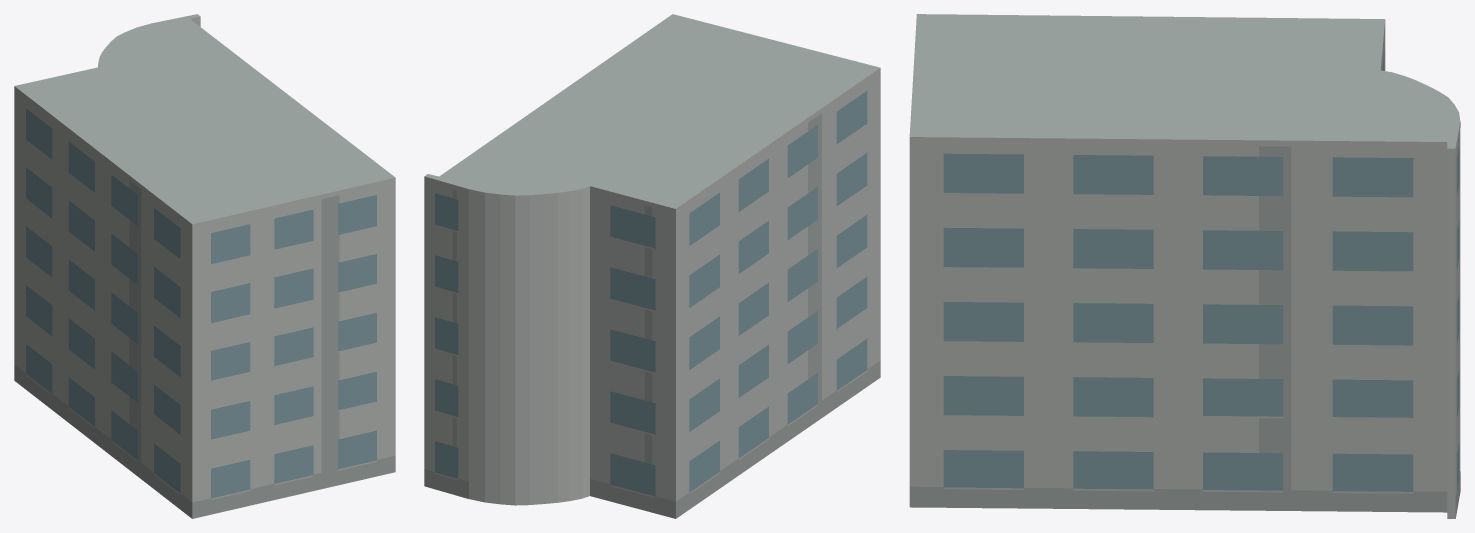
Rendered from survey-upis-32491429.glb.
The picture shows the model from 3 angles, left to right: view 1: azimuth 30°, elevation 25°; view 2: azimuth 150°, elevation 25°; view 3: azimuth 270°, elevation 25°; orthographic projection. The views are drawn at different scales.
Visible parts, largest first — view 1: survey-upis-32491429.tmp; view 2: survey-upis-32491429.tmp; view 3: survey-upis-32491429.tmp.
Boxes of the visible parts, x1,y1,x2,y2 form: survey-upis-32491429.tmp: (14, 14, 395, 518); survey-upis-32491429.tmp: (424, 14, 880, 518); survey-upis-32491429.tmp: (909, 14, 1460, 518).
Bounding box in the file's own units: 11.85 × 15.2 × 20.5.
